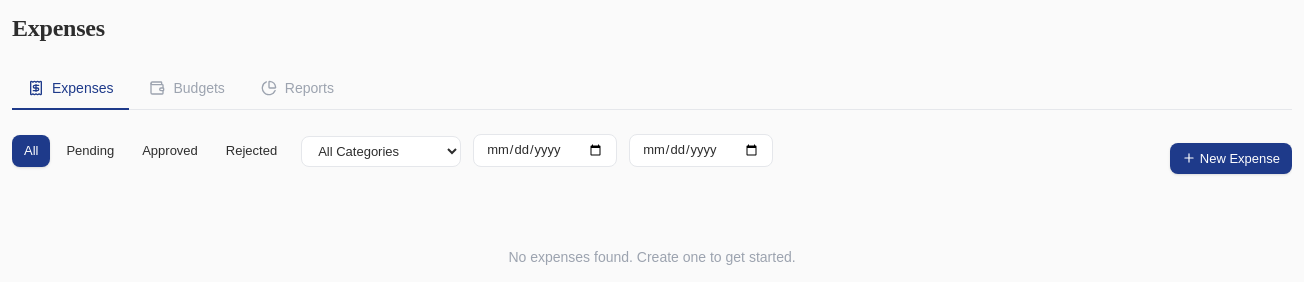
Scenario: ExpensesPage › switches to Budgets tab
Click the button "Budgets" at (187, 89), box [134, 68, 241, 110]
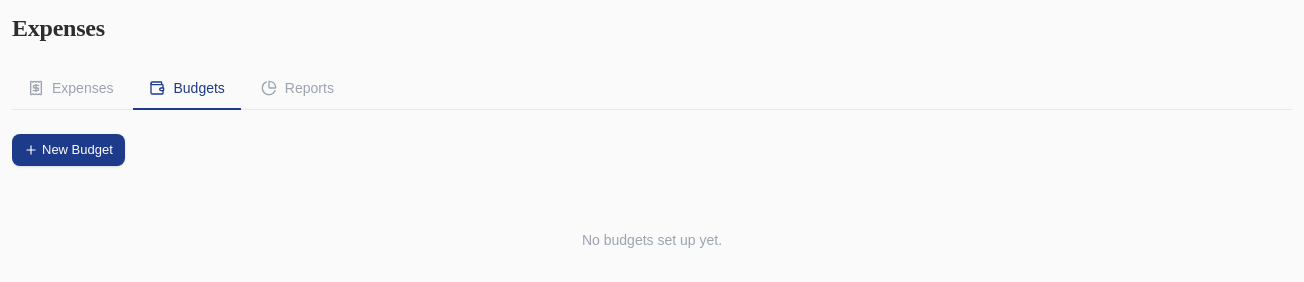
Expected: the text "No budgets set up yet." is shown, [582, 232, 722, 248]
